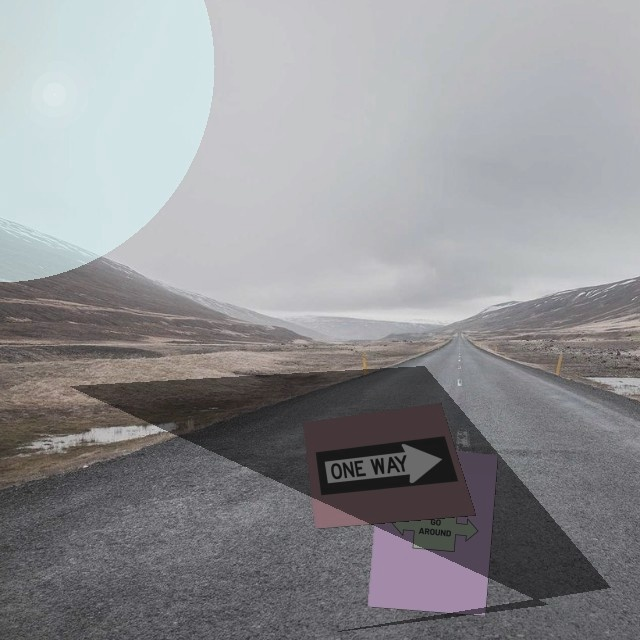GO_AROUND: (388, 491, 483, 564)
ONE_WAY_ right: (315, 435, 459, 495)
